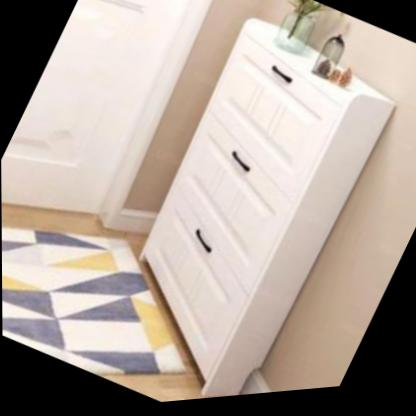Cabinet: (86, 12, 404, 410)
